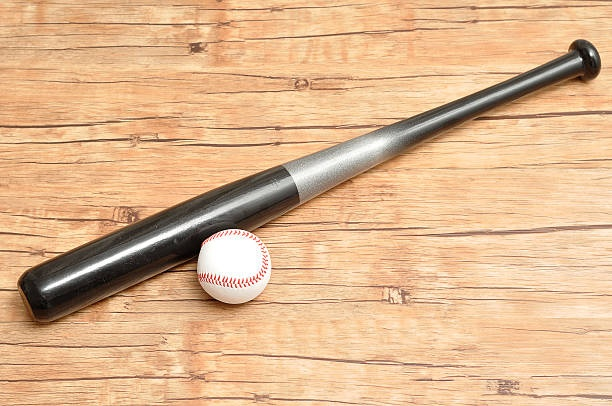bita: (19, 44, 600, 322)
